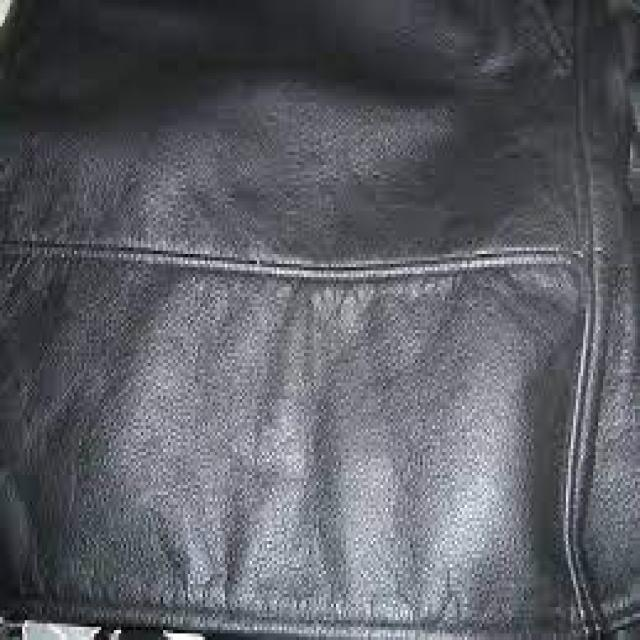Crease: (394, 277, 572, 557), (84, 312, 242, 518), (144, 95, 384, 202)
